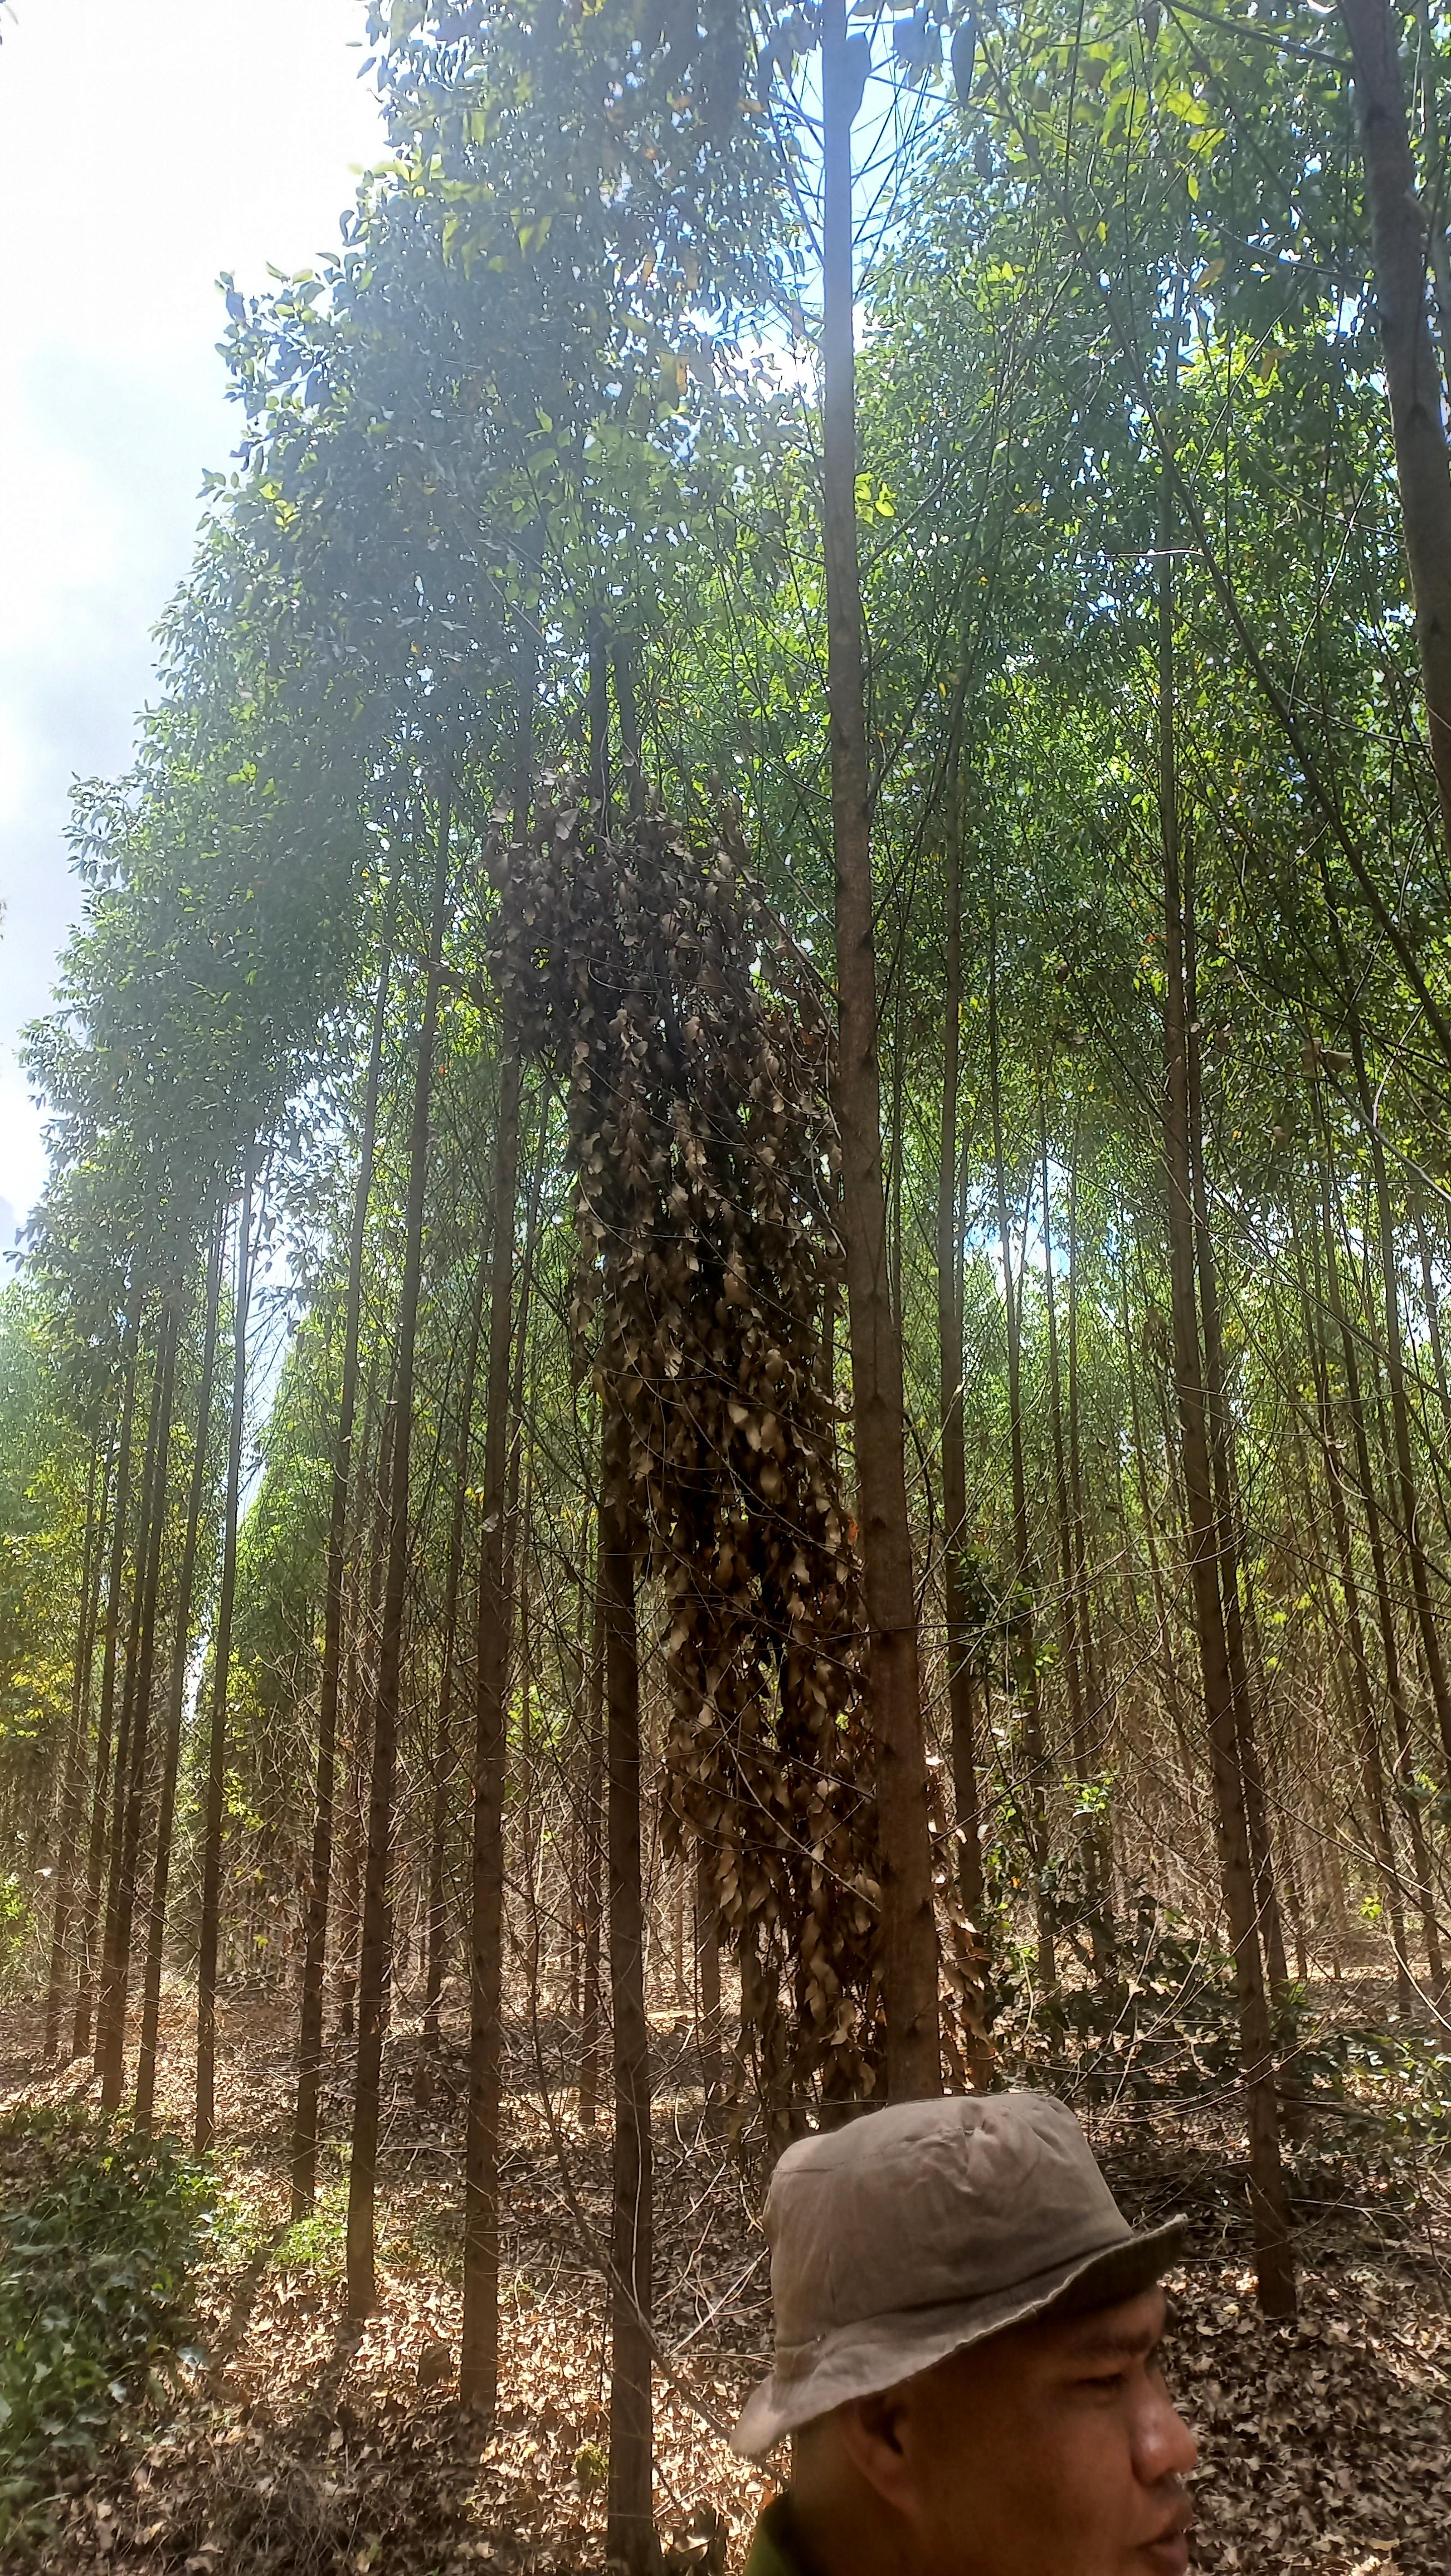Wither Tree Parts: (469, 754, 906, 2107)
